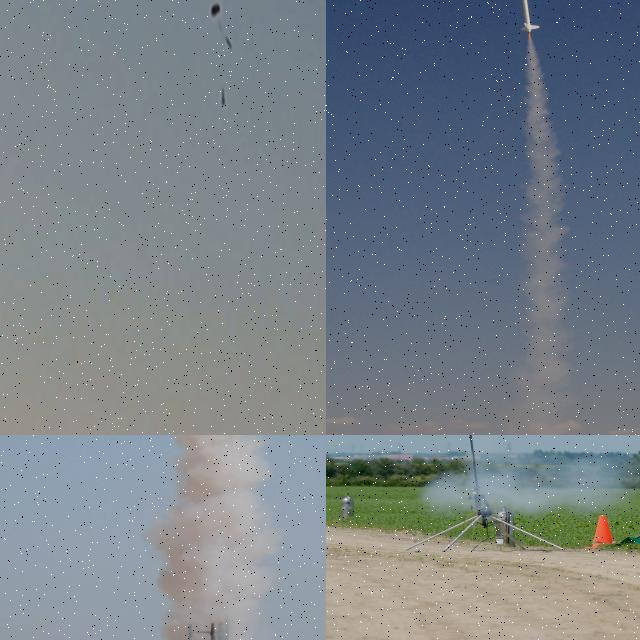Rocket: (520, 0, 540, 33), (221, 88, 225, 105)
